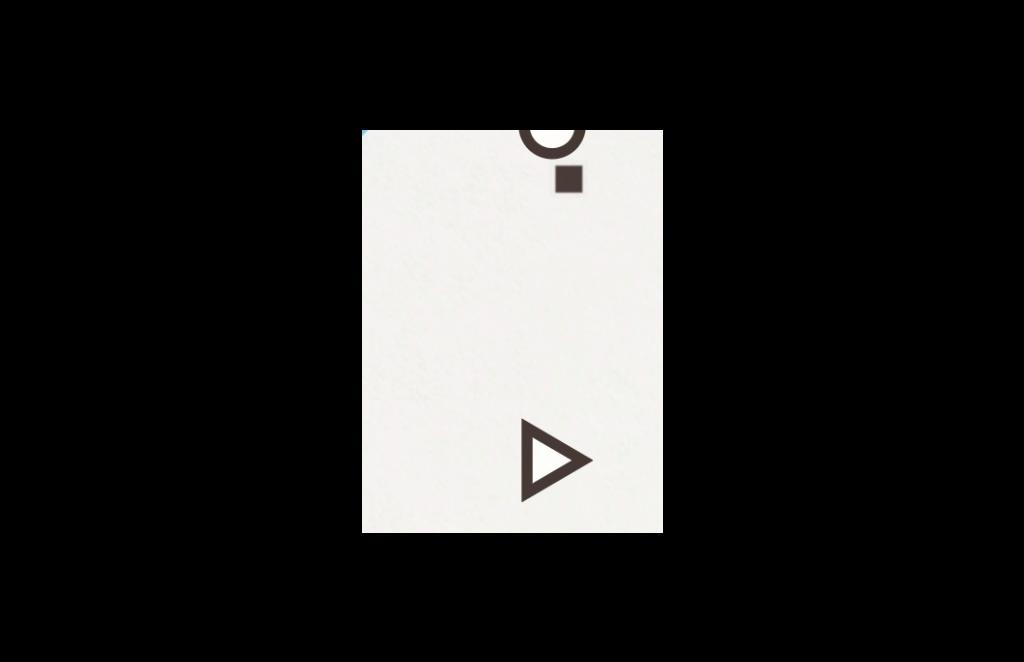unconnected_station: (504, 402, 607, 520), (512, 130, 598, 186)
